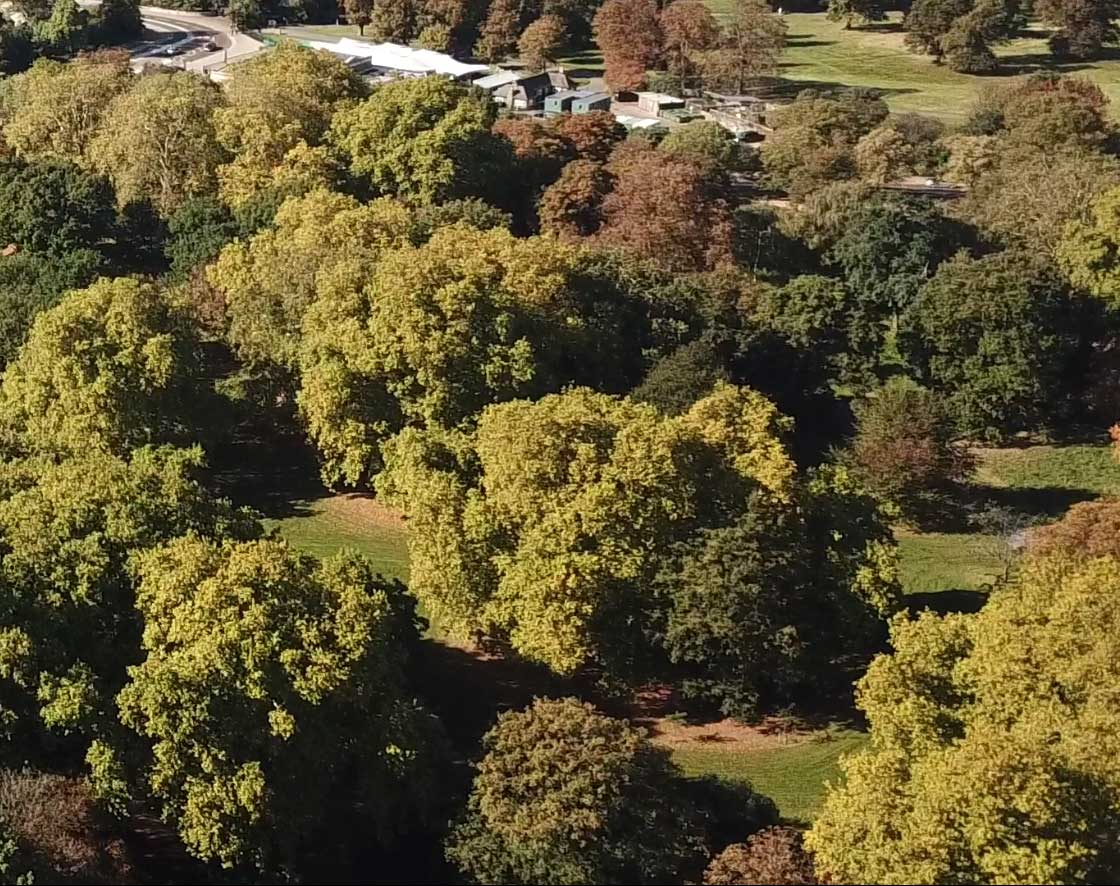trees: (11, 72, 764, 470), (403, 364, 869, 693)
